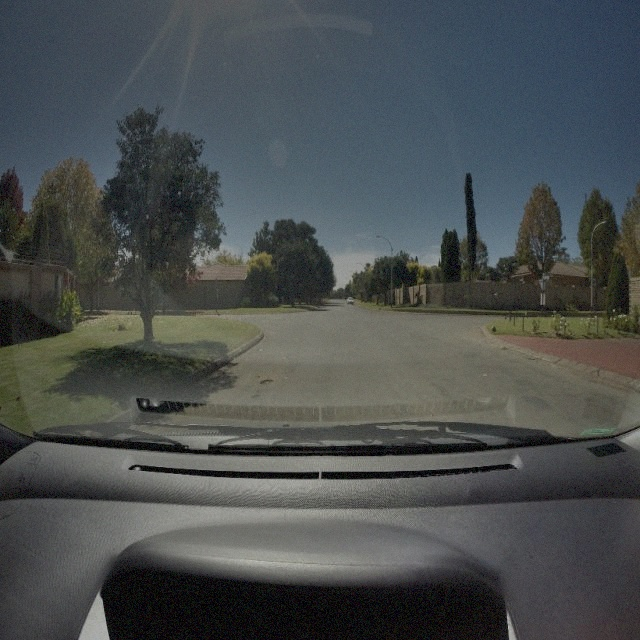pothole: (259, 373, 273, 385), (250, 390, 260, 398)
